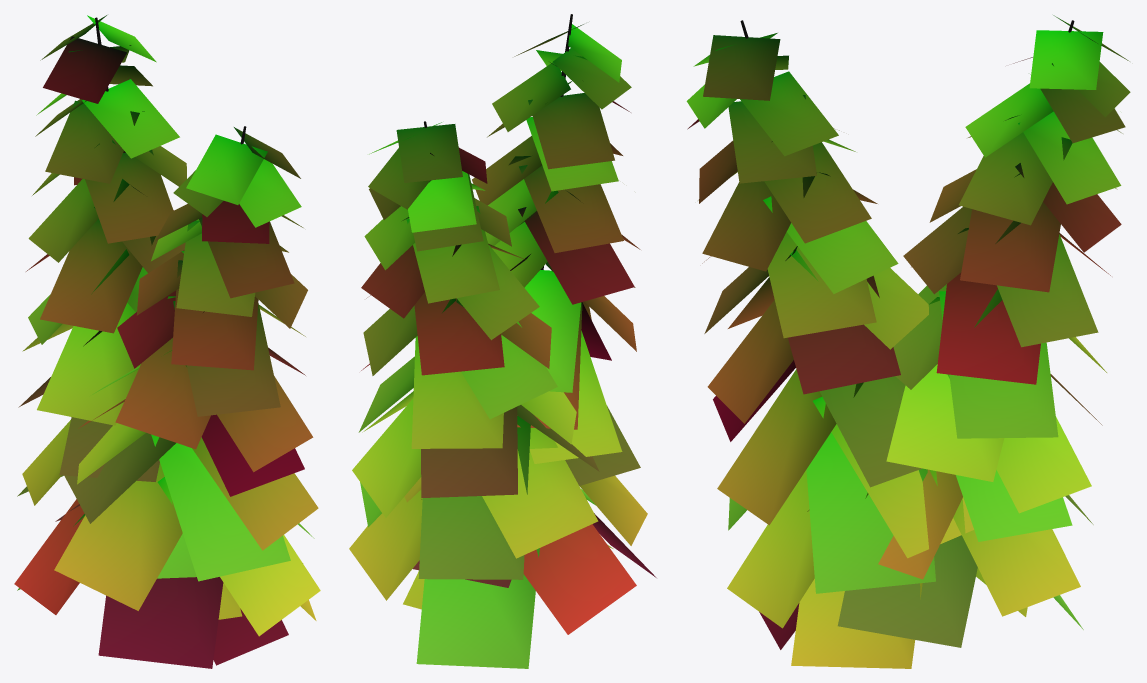
Rendered from Tree_12.fbx.
3 views of the same model, side by side, from view 1: azimuth 30°, elevation 25°; view 2: azimuth 150°, elevation 25°; view 3: azimuth 270°, elevation 25° (orthographic). The views are drawn at different scales.
Parts seen in each view (by area): view 1: Tree_12; view 2: Tree_12; view 3: Tree_12.
Boxes of the visible parts, left/top/right/bottom form: Tree_12: left=14, top=15, right=320, bottom=668; Tree_12: left=349, top=14, right=656, bottom=668; Tree_12: left=686, top=15, right=1130, bottom=668.
Bounding box in the file's own units: 892 × 1837 × 1222.
